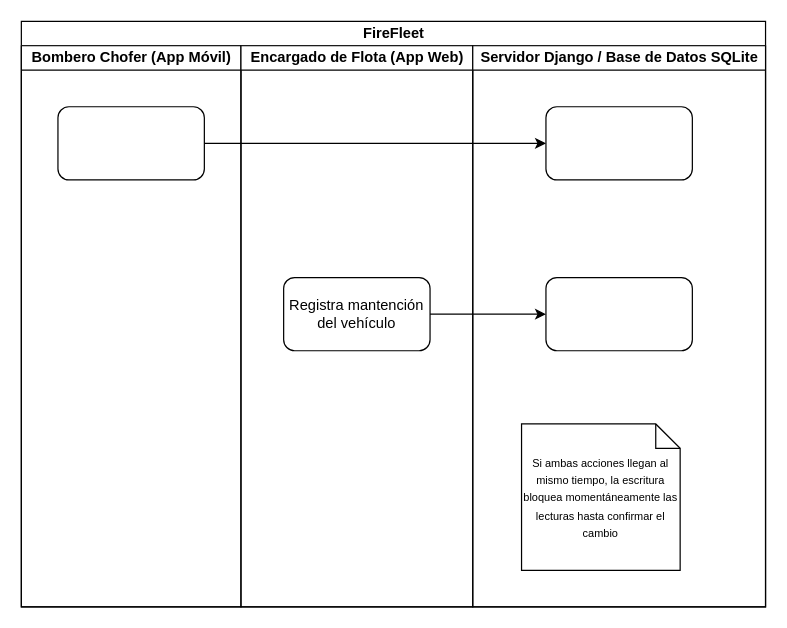
The diagram is 787 pixels wide and 628 high, and some of its shapes have lost their labels. Here are the shapes that lost their labels. From the top down, the centre of each, then its label:
At [130,143]: "Consulta disponibilidad del vehículo".
At [618,143]: "Lee estado del vehículo (sin bloqueo)".
At [618,313]: "Escribe nueva mantención (bloqueo exclusivo del archivo .sqlite3)".
